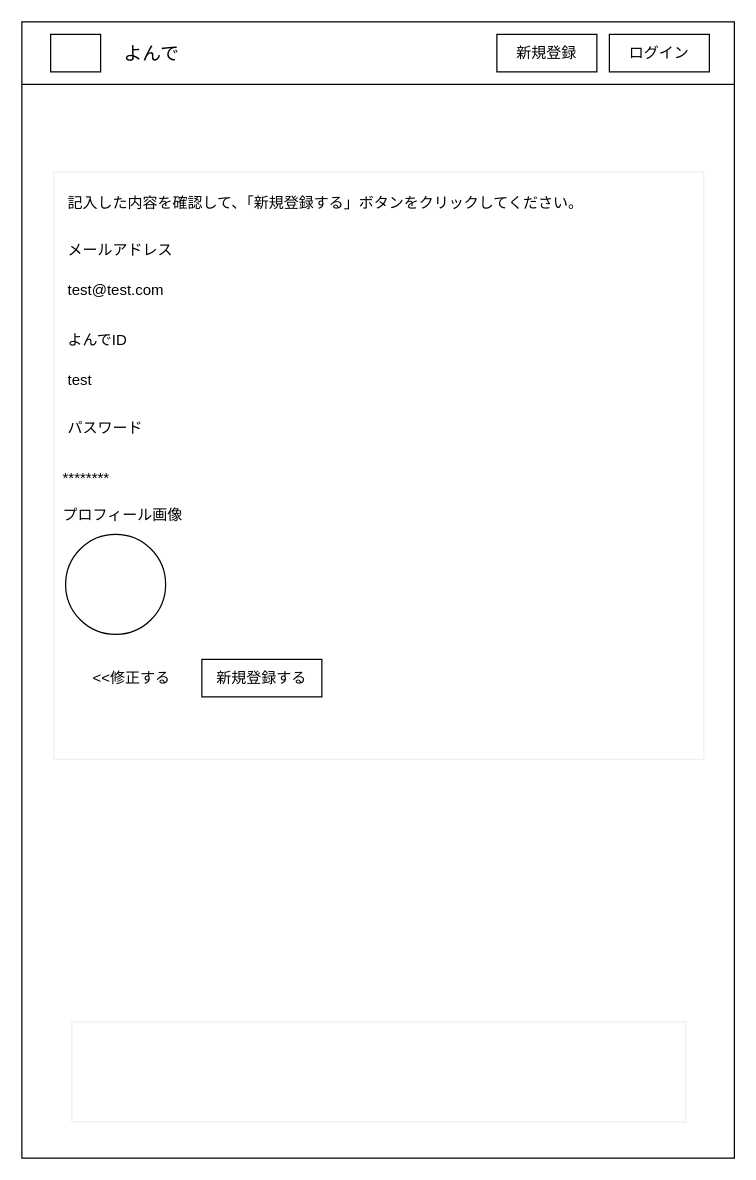
The diagram is 756 pixels wide and 1180 high, and some of its shapes have lost their labels. Each missing label, with the box of its shape:
フッター: (71, 1021, 686, 1122)
ロゴ: (49, 33, 101, 72)
